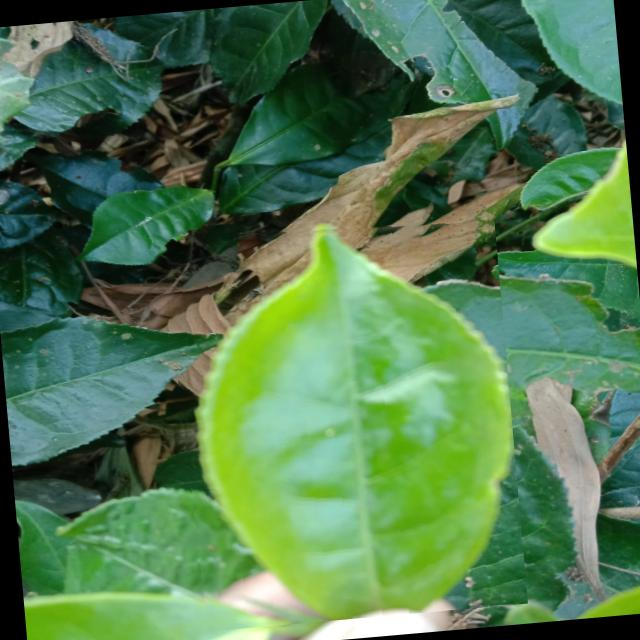Category B(2-4 days): (162, 208, 528, 632)
